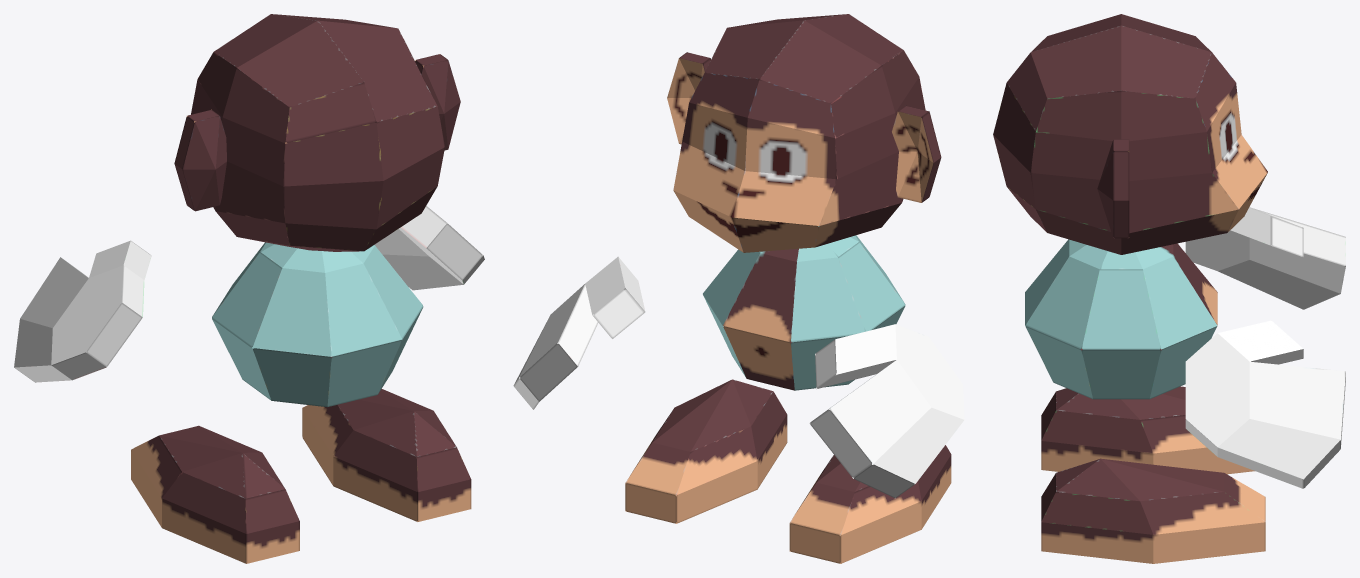
Rendered from Chimpanze.fbx.
3 renders of one model, left to right at view 1: azimuth 30°, elevation 25°; view 2: azimuth 150°, elevation 25°; view 3: azimuth 270°, elevation 25°, orthographic. The views are drawn at different scales.
Visible parts, largest first — view 1: cuboid, sphere, cylinder_5, cylinder_4, cylinder_3, cylinder_2, cylinder_1, cylinder; view 2: cuboid, sphere, cylinder_3, cylinder_4, cylinder_5, cylinder_2, cylinder_1, cylinder; view 3: cuboid, sphere, cylinder_4, cylinder_2, cylinder_5, cylinder_3, cylinder.
Part boxes in pixels (x1,y1,x2,y2): cuboid: [191, 14, 444, 251]; sphere: [212, 242, 423, 407]; cylinder_5: [131, 425, 299, 563]; cylinder_4: [302, 389, 471, 521]; cylinder_3: [14, 240, 151, 382]; cylinder_2: [374, 206, 484, 290]; cylinder_1: [174, 109, 226, 211]; cylinder: [415, 54, 460, 150]; cuboid: [673, 14, 925, 252]; sphere: [703, 226, 905, 390]; cylinder_3: [809, 324, 964, 498]; cylinder_4: [625, 379, 787, 523]; cylinder_5: [789, 445, 951, 563]; cylinder_2: [513, 256, 645, 409]; cylinder_1: [892, 106, 941, 202]; cylinder: [667, 52, 710, 144]; cuboid: [993, 14, 1267, 254]; sphere: [1025, 239, 1217, 399]; cylinder_4: [1041, 458, 1265, 563]; cylinder_2: [1185, 320, 1345, 488]; cylinder_5: [1041, 386, 1254, 474]; cylinder_3: [1185, 207, 1345, 309]; cylinder: [1097, 139, 1129, 238].
Size of the model in its own units: 94.89 by 102 by 68.75.
Materials: 1 (1 with a texture image).
